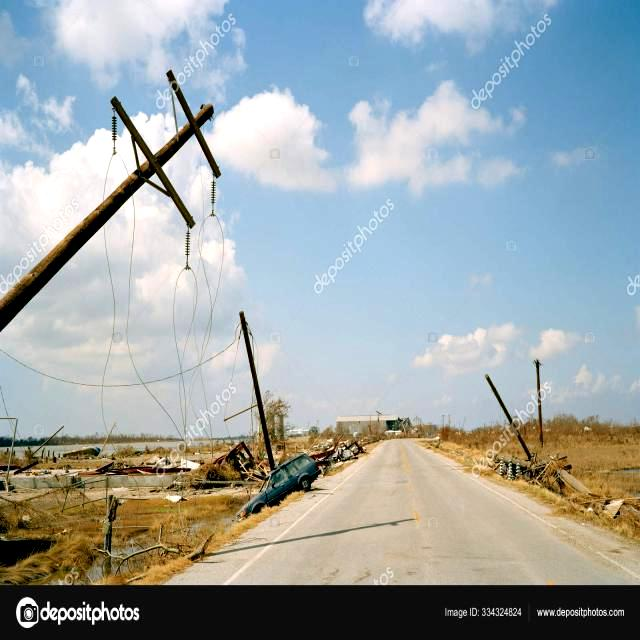Broken Pole: (0, 69, 221, 333), (223, 311, 275, 470), (492, 451, 593, 496), (484, 373, 532, 459)
